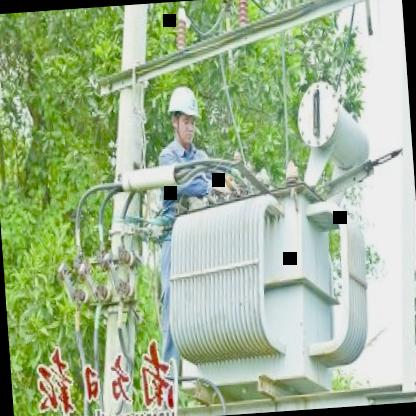helmet: (165, 81, 204, 150)
